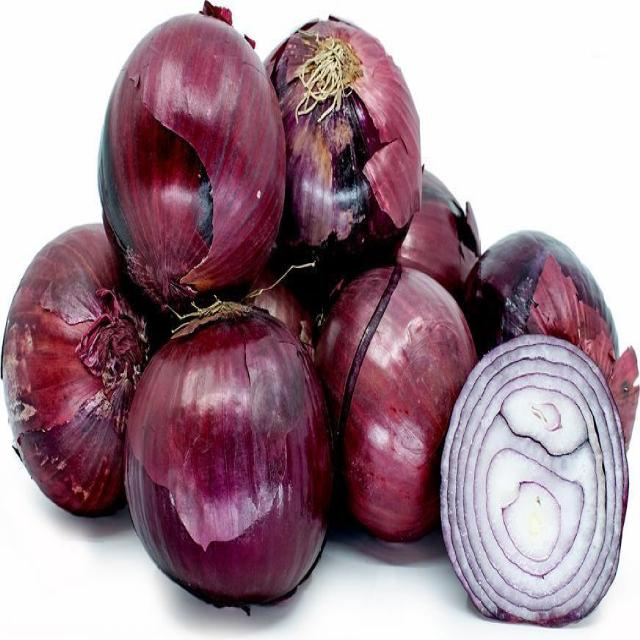Onion: (98, 0, 318, 319), (125, 292, 334, 616), (442, 337, 630, 626), (3, 222, 165, 515), (265, 15, 425, 311), (313, 267, 475, 543), (462, 230, 640, 452), (397, 159, 482, 297), (240, 263, 314, 333)
